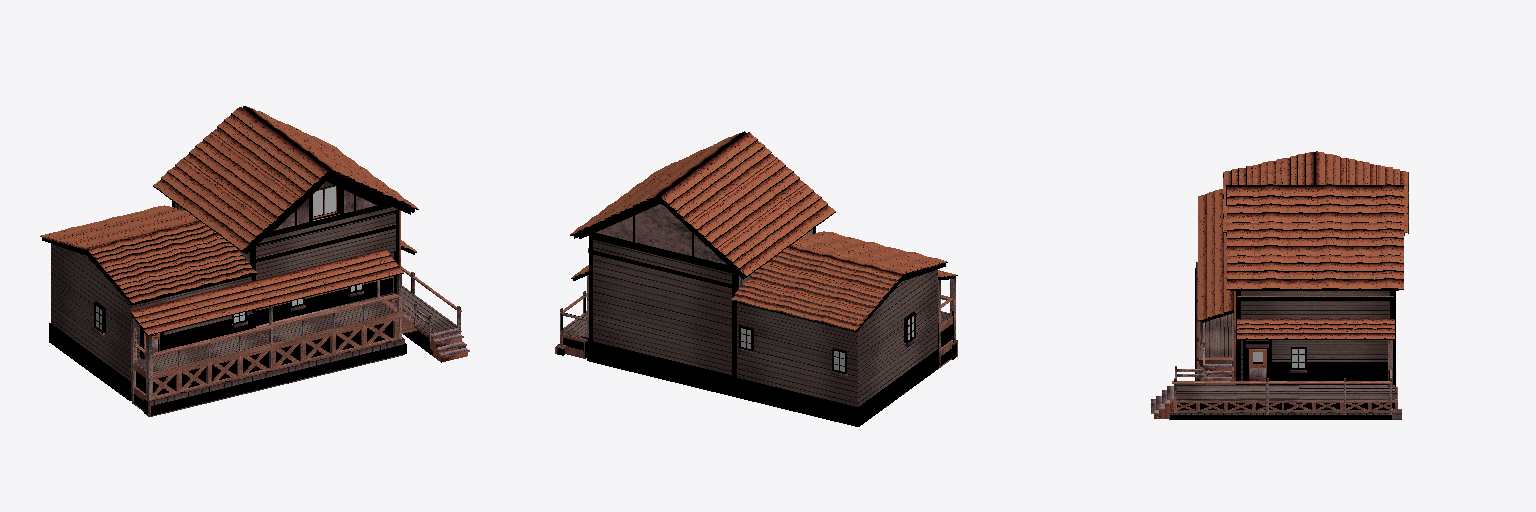
3 renders of one model, left to right at view 1: azimuth 30°, elevation 25°; view 2: azimuth 150°, elevation 25°; view 3: azimuth 270°, elevation 25°, orthographic.
Visible parts, largest first — view 1: Cube.027; view 2: Cube.027; view 3: Cube.027.
Part boxes in pixels (x1,y1,x2,y2): Cube.027: (40,106,469,416); Cube.027: (555,131,957,426); Cube.027: (1151,151,1408,419).
Bounding box in the file's own units: 2.47 × 1.47 × 1.81.
Materials: 2 (1 with a texture image).